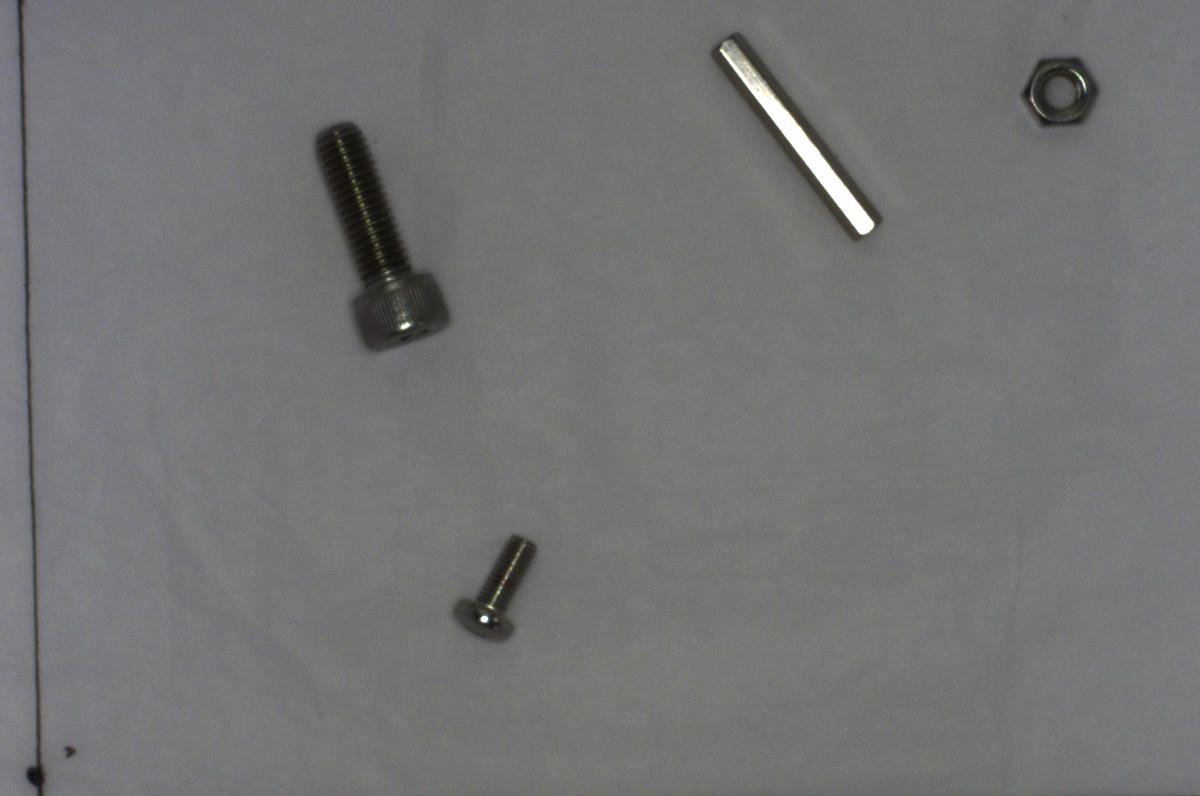Double hexagonal column: (708, 27, 886, 242)
Hexagon nut: (1007, 43, 1108, 134)
Hexagon screw: (305, 113, 460, 368)
Round head screw: (441, 525, 547, 652)
